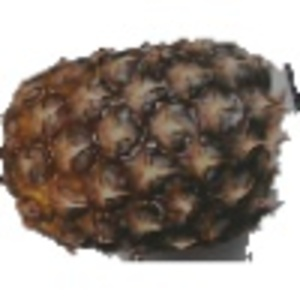abacaxi: (1, 34, 281, 246)
